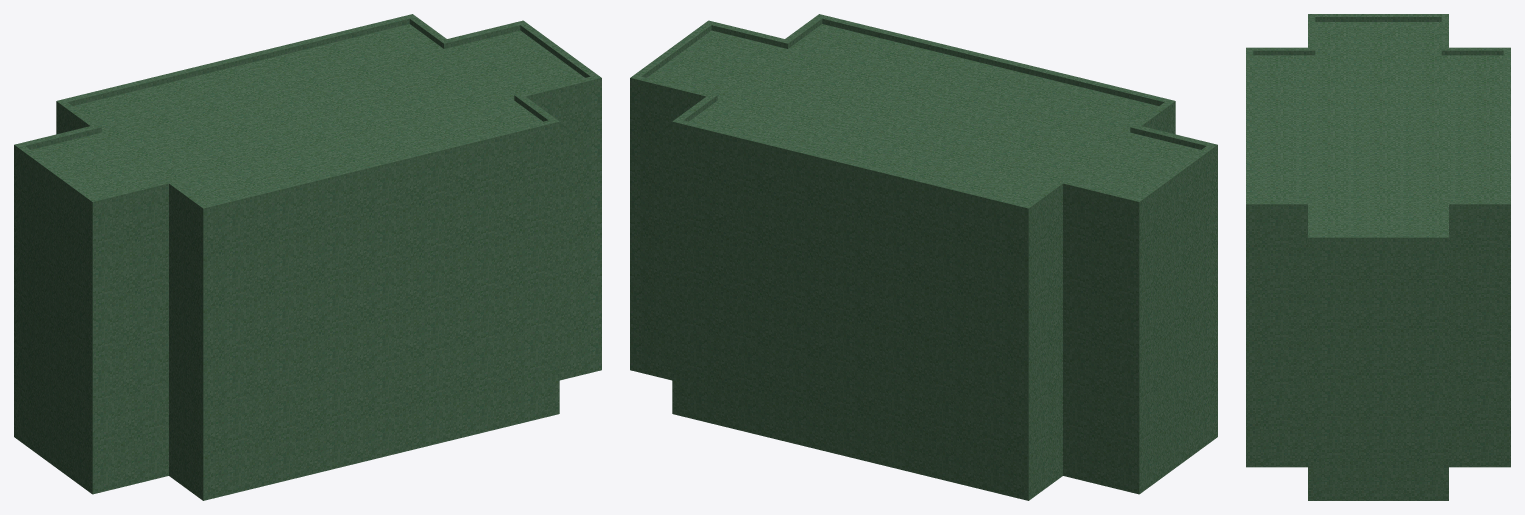
File: ApartmentBuilding.fbx
3 views of the same model, side by side, from view 1: azimuth 30°, elevation 25°; view 2: azimuth 150°, elevation 25°; view 3: azimuth 270°, elevation 25° (orthographic). The views are drawn at different scales.
Parts seen in each view (by area): view 1: ApartmentBuilding; view 2: ApartmentBuilding; view 3: ApartmentBuilding.
Boxes of the visible parts, x1,y1,x2,y2 form: ApartmentBuilding: [14, 14, 601, 500]; ApartmentBuilding: [630, 14, 1217, 500]; ApartmentBuilding: [1246, 14, 1510, 500].
Size of the model in its own units: 24 by 12 by 13.17.
